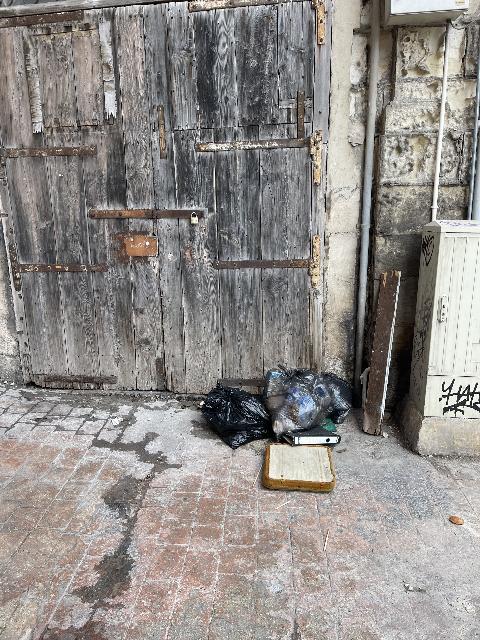Mixed -Black-: (199, 383, 271, 449)
Other: (263, 443, 336, 491), (282, 418, 341, 445)
Recyclable -Grey-: (263, 365, 352, 438)
